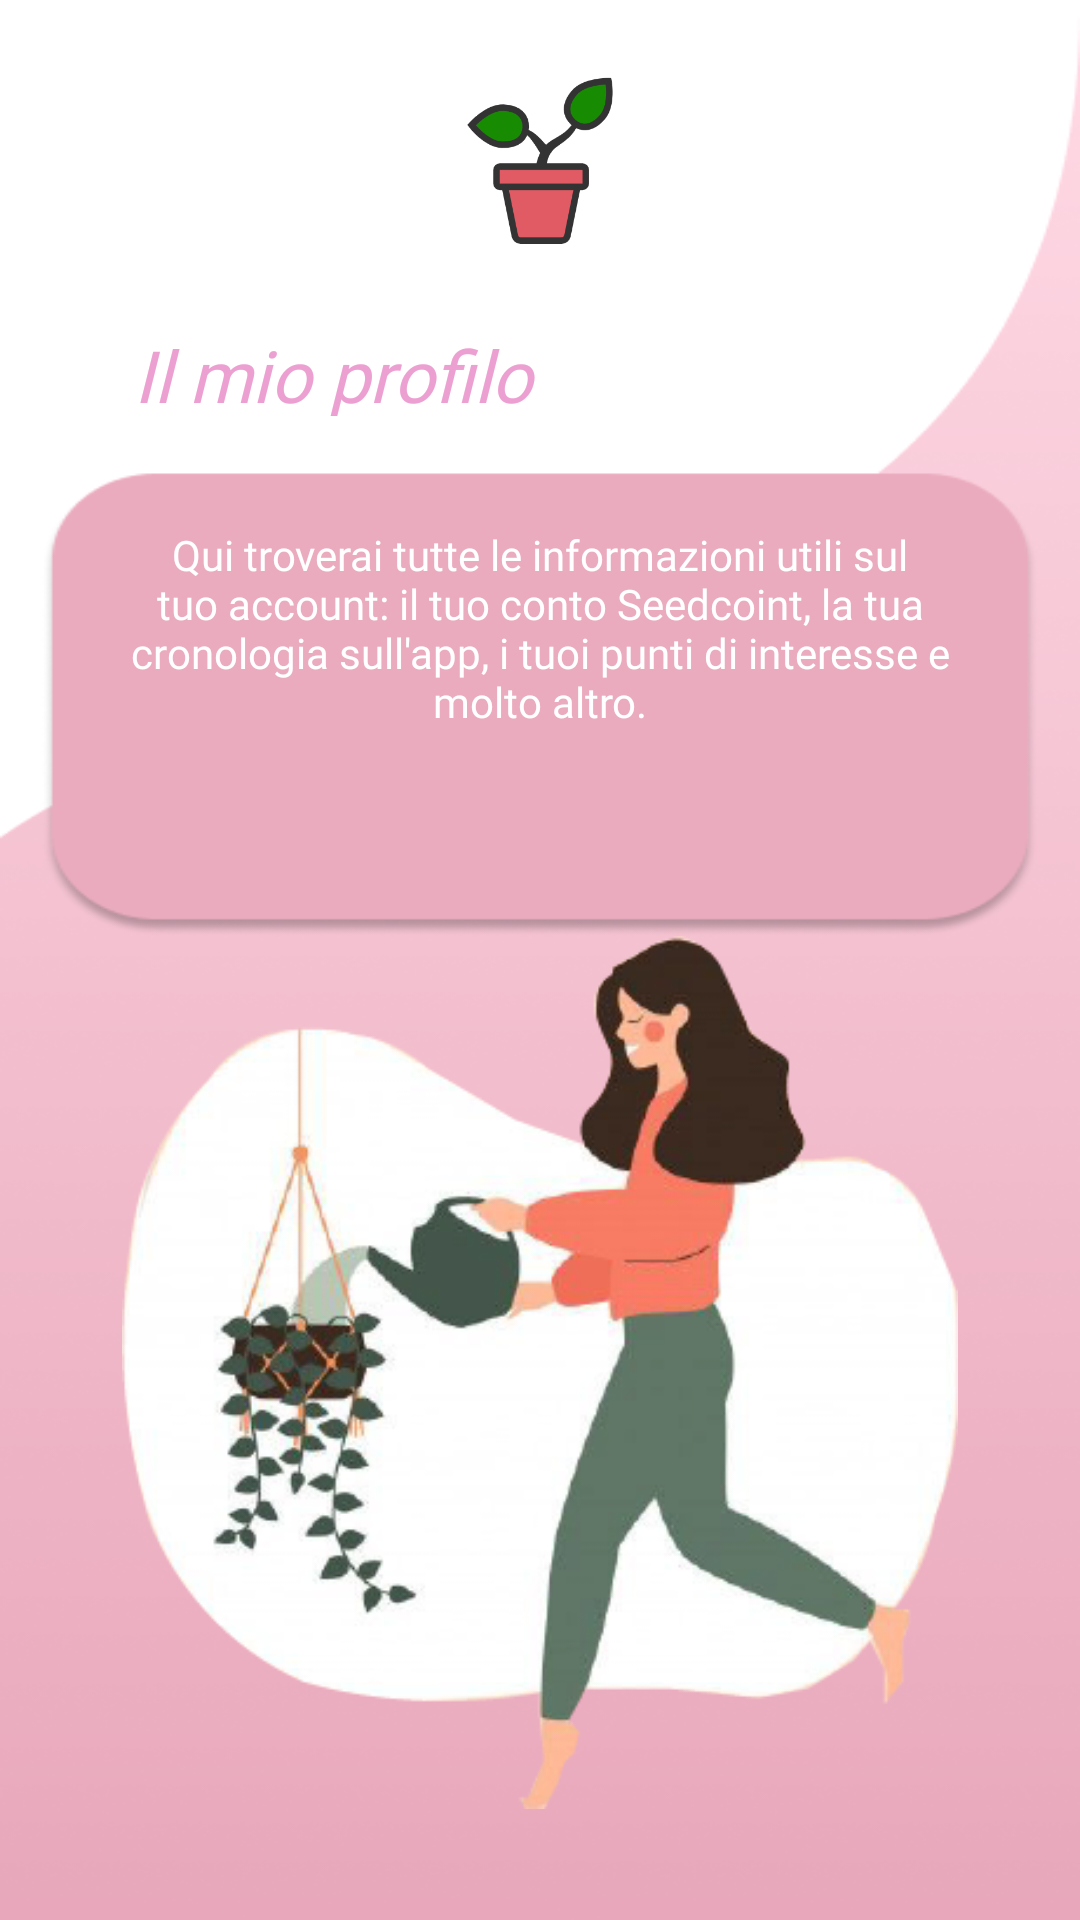

Locate icon controls on the screen. Image size 1080px x 1920px, boxes as (x1, y1, x2, y2).
pottingan: (467, 78, 613, 244)
